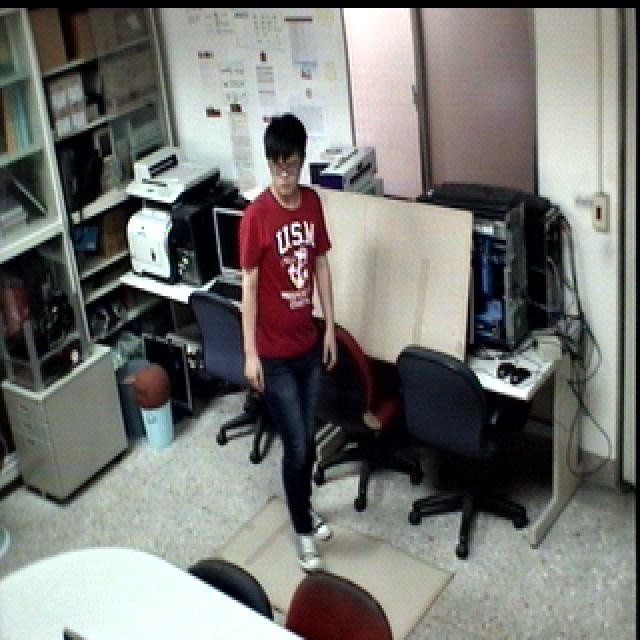stand: (232, 107, 348, 584)
